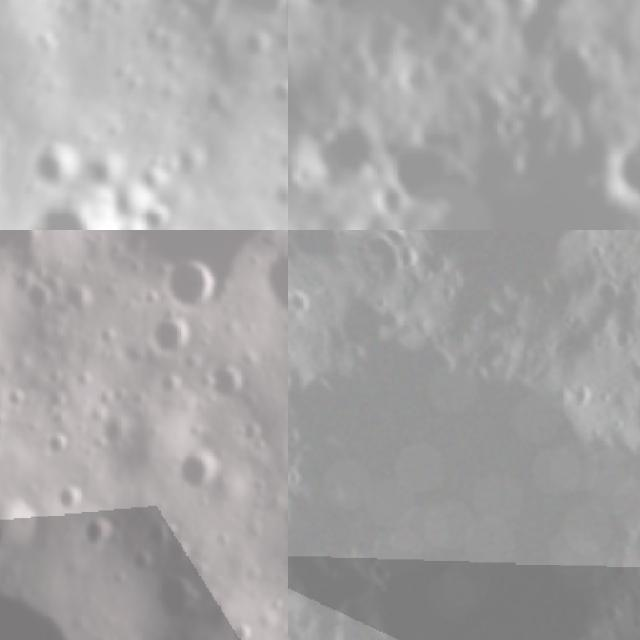crater: (531, 34, 619, 128), (288, 36, 328, 225), (304, 108, 386, 190), (22, 178, 125, 230), (594, 115, 640, 220), (0, 495, 54, 576), (143, 565, 212, 625), (162, 254, 224, 316), (172, 445, 230, 499), (76, 512, 136, 564), (26, 140, 82, 193), (77, 144, 130, 195), (148, 306, 197, 361), (333, 193, 404, 230), (204, 354, 253, 407), (176, 0, 288, 23), (261, 240, 288, 326), (368, 170, 414, 217), (58, 277, 100, 321), (51, 480, 94, 521), (132, 158, 176, 198), (18, 275, 58, 317), (133, 195, 179, 230), (40, 425, 75, 460), (622, 378, 640, 444), (288, 351, 305, 410), (227, 615, 266, 640), (267, 68, 288, 108), (240, 30, 267, 60), (277, 29, 288, 54)
